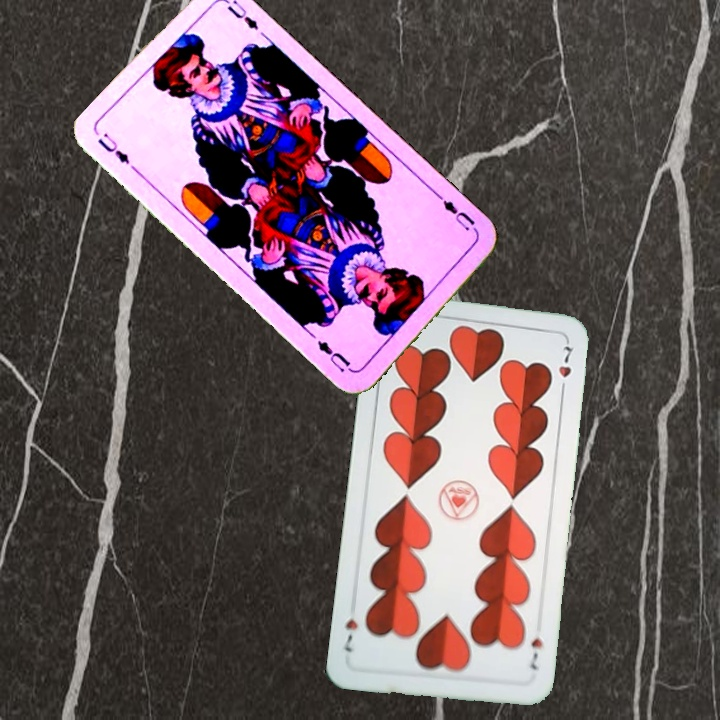EU: (433, 191, 478, 234), (93, 129, 132, 167)
H7: (525, 634, 545, 672)
